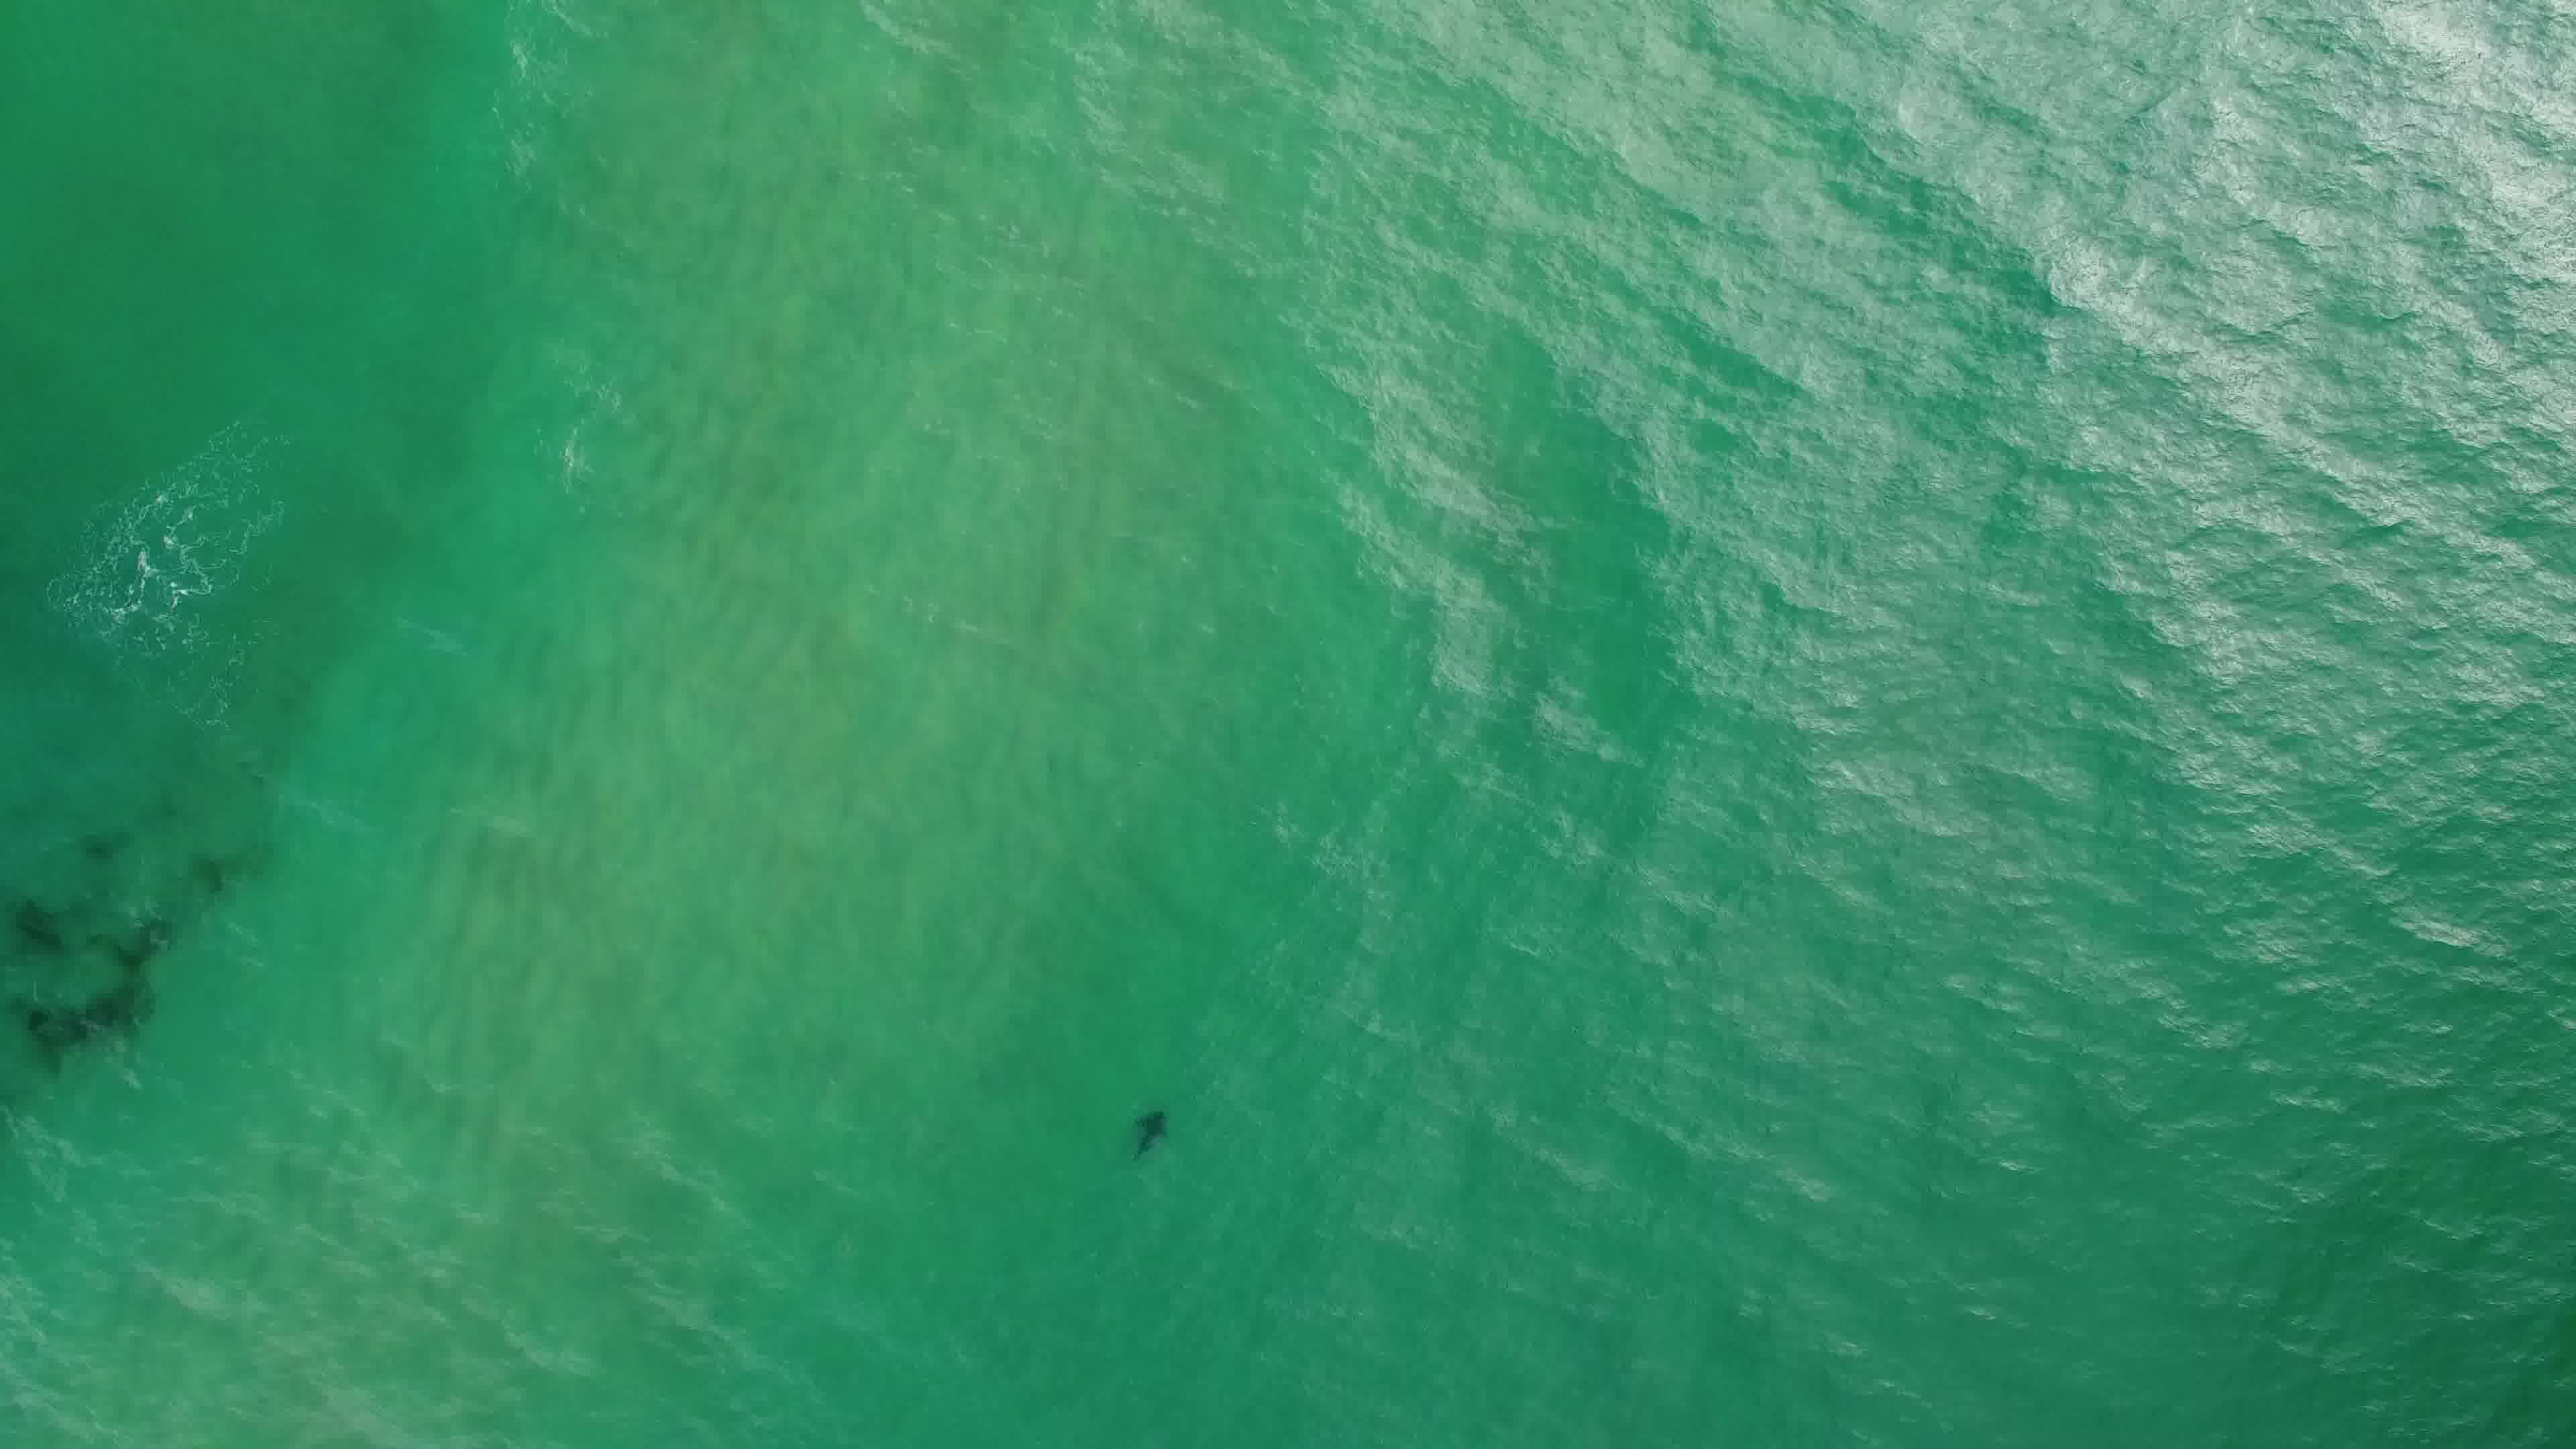shark: (1123, 1099, 1177, 1166)
